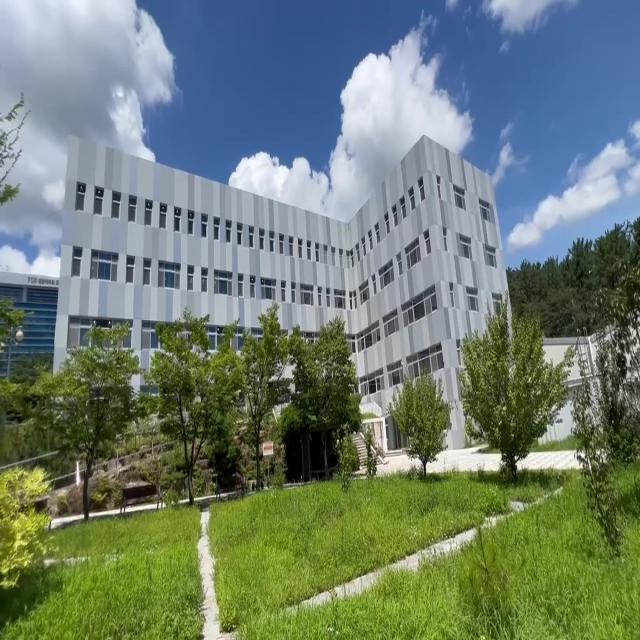building: (58, 69, 498, 352)
